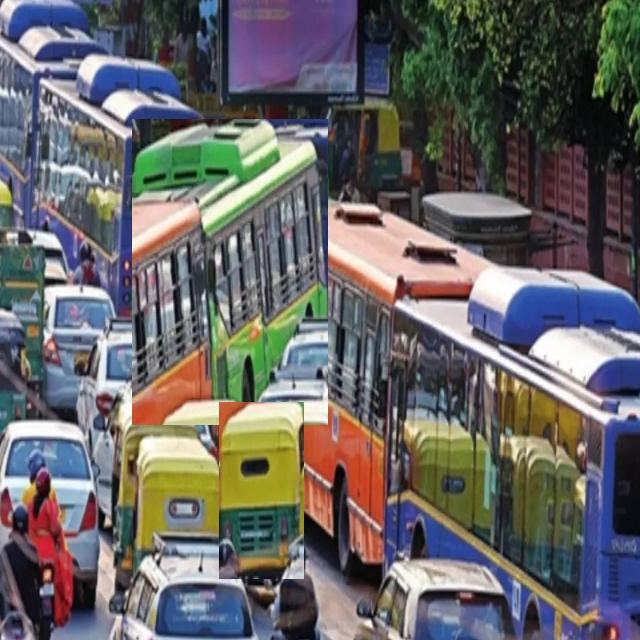autorickshaw: (219, 402, 304, 579), (132, 438, 223, 570)
bus: (384, 264, 640, 638), (249, 198, 481, 564), (132, 120, 328, 425), (35, 53, 198, 316)
car: (0, 420, 99, 604)
